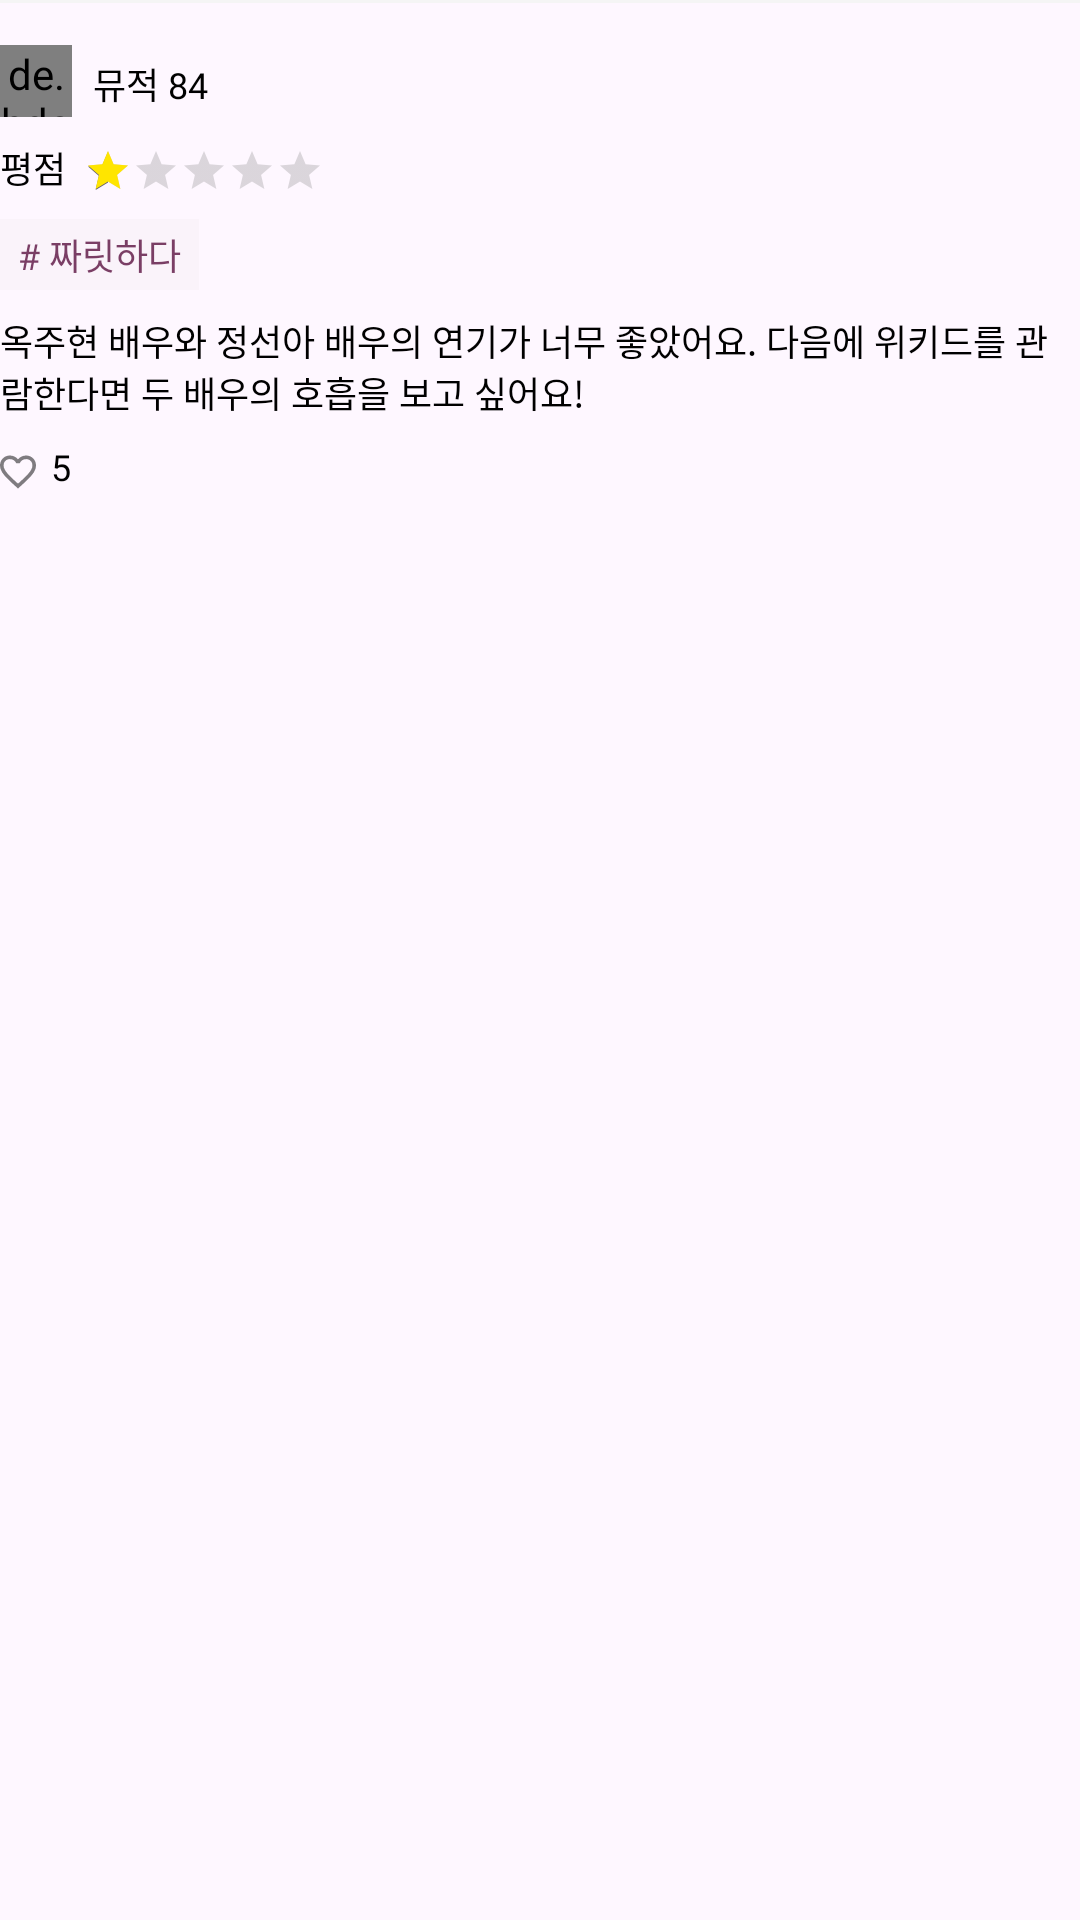

Named icons in this screenshot (1080x1920) and their centers, (x=x, y=y):
heart: (x=18, y=471)
